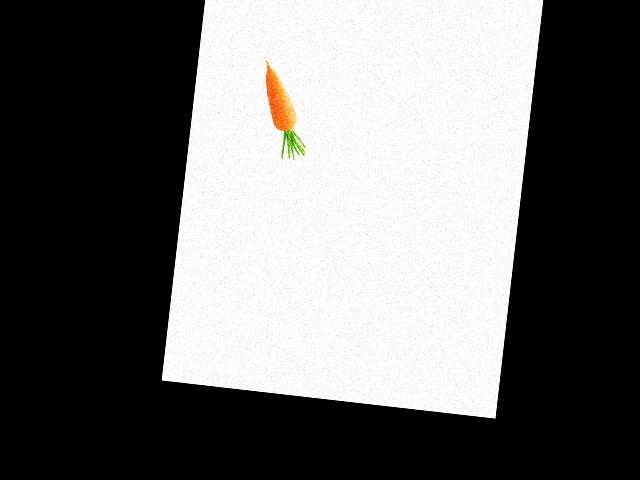carrot: (257, 56, 306, 122)
